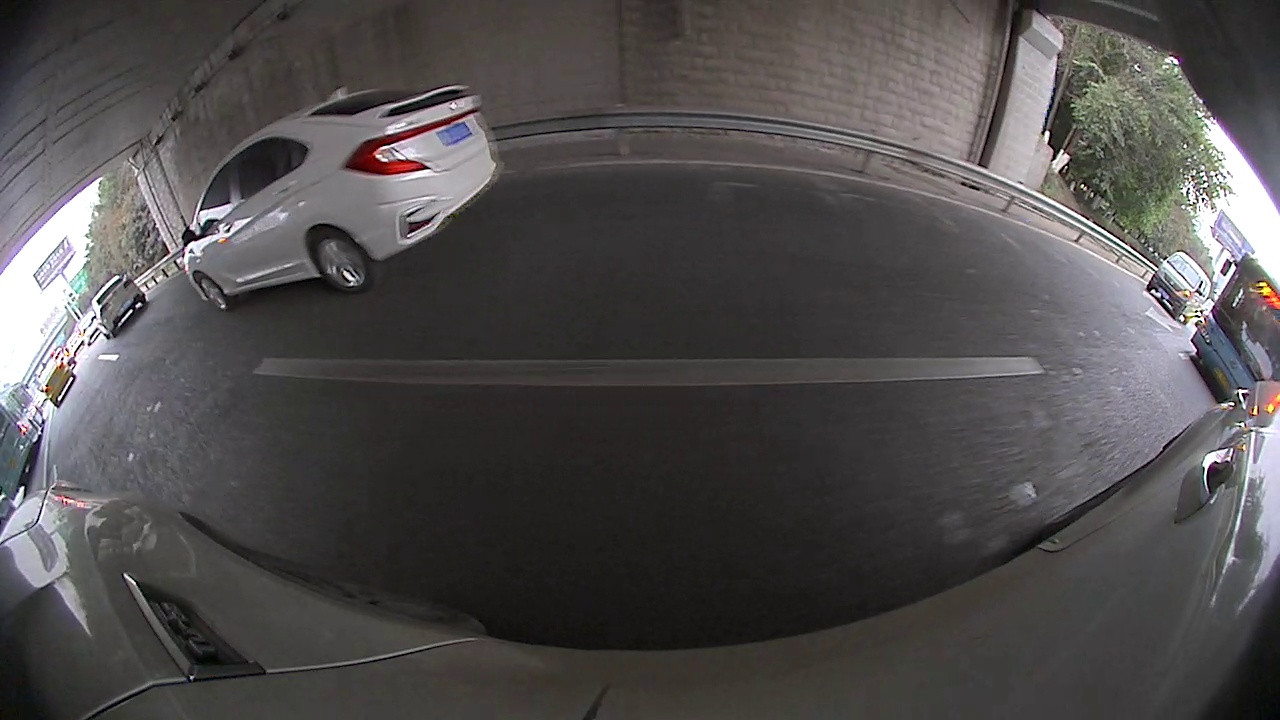bus: (1011, 98, 1231, 371)
car: (210, 91, 408, 212), (68, 202, 197, 323), (1186, 377, 1253, 465)
front: (304, 144, 341, 187), (102, 284, 129, 319)
rear: (221, 176, 251, 211)
